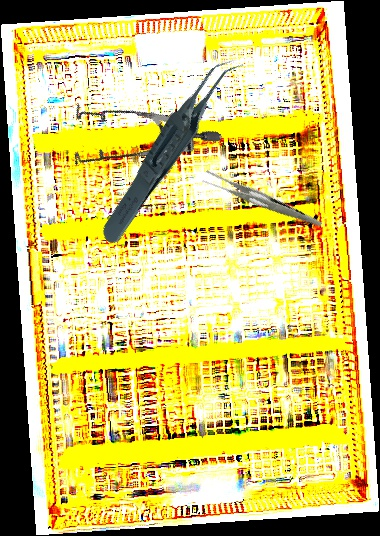Dressing Forceps: (199, 142, 323, 260)
Speculum: (49, 60, 225, 224)
Tissue Forceps: (68, 51, 277, 248)
